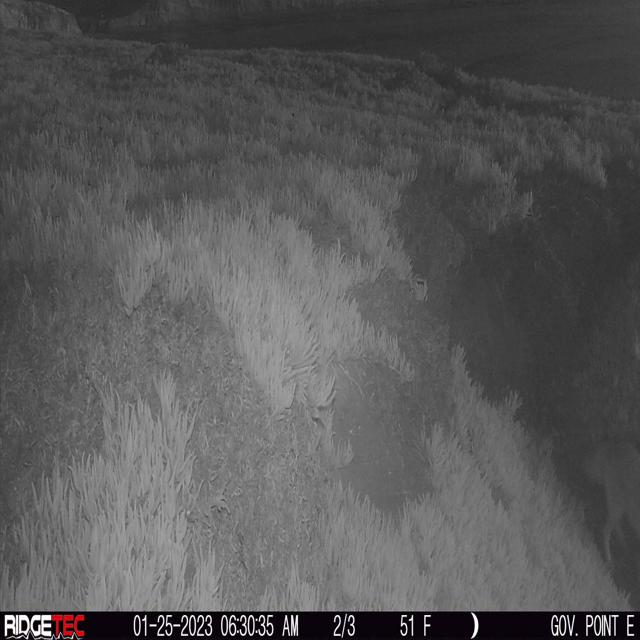coyote: (583, 437, 640, 598)
